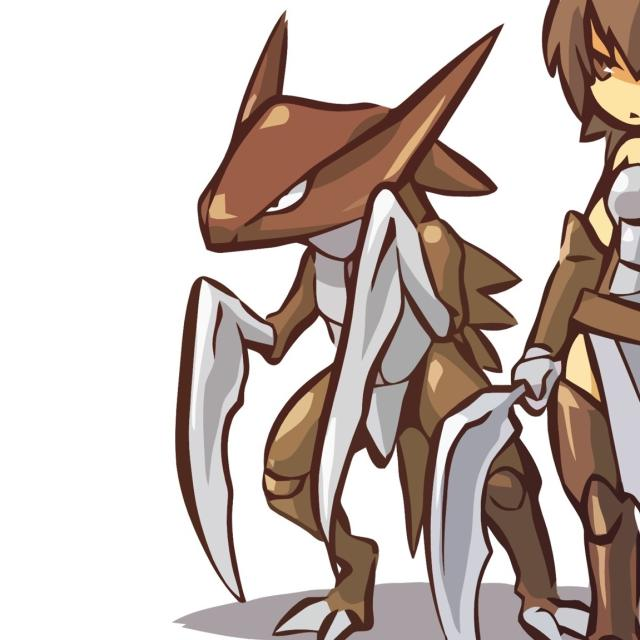Kabutops: (171, 9, 558, 640)
